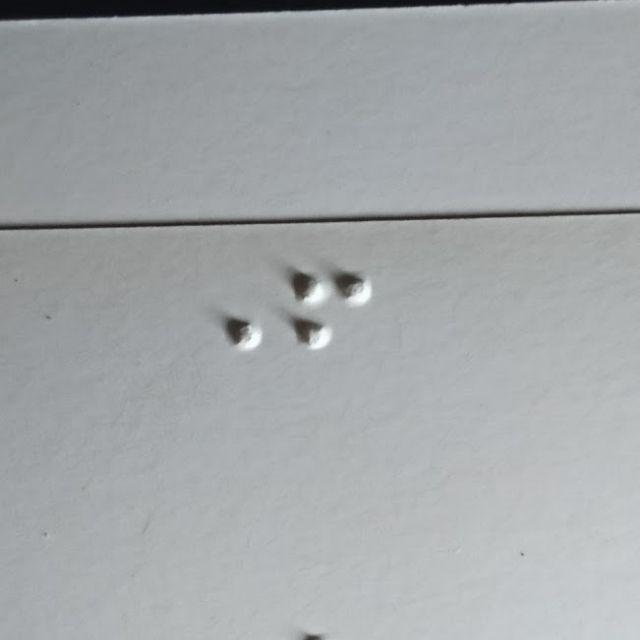dot_5: (185, 271, 265, 396)
papaano: (291, 267, 371, 393)
